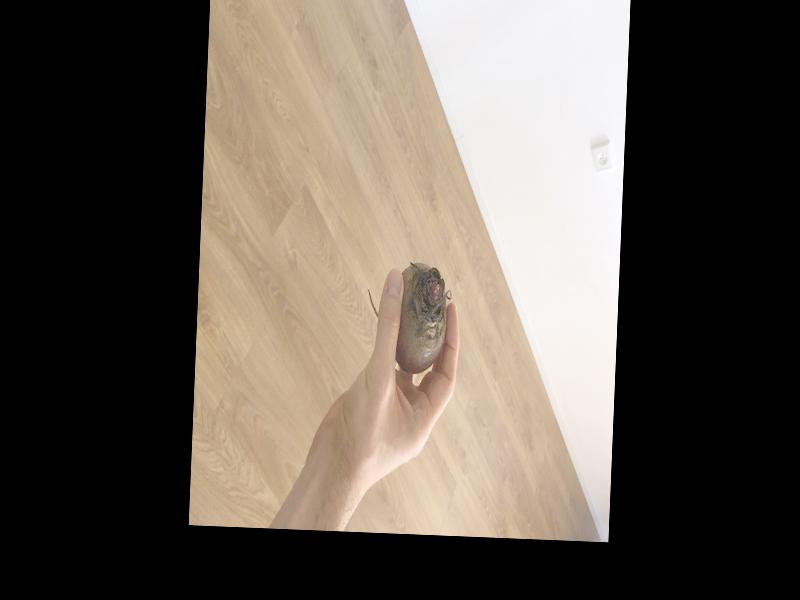Beet: (365, 259, 450, 374)
